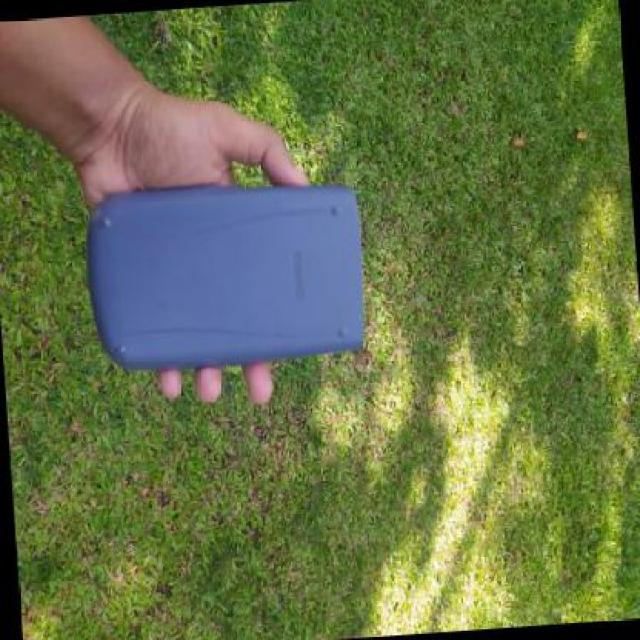Calculator: (74, 172, 380, 390)
